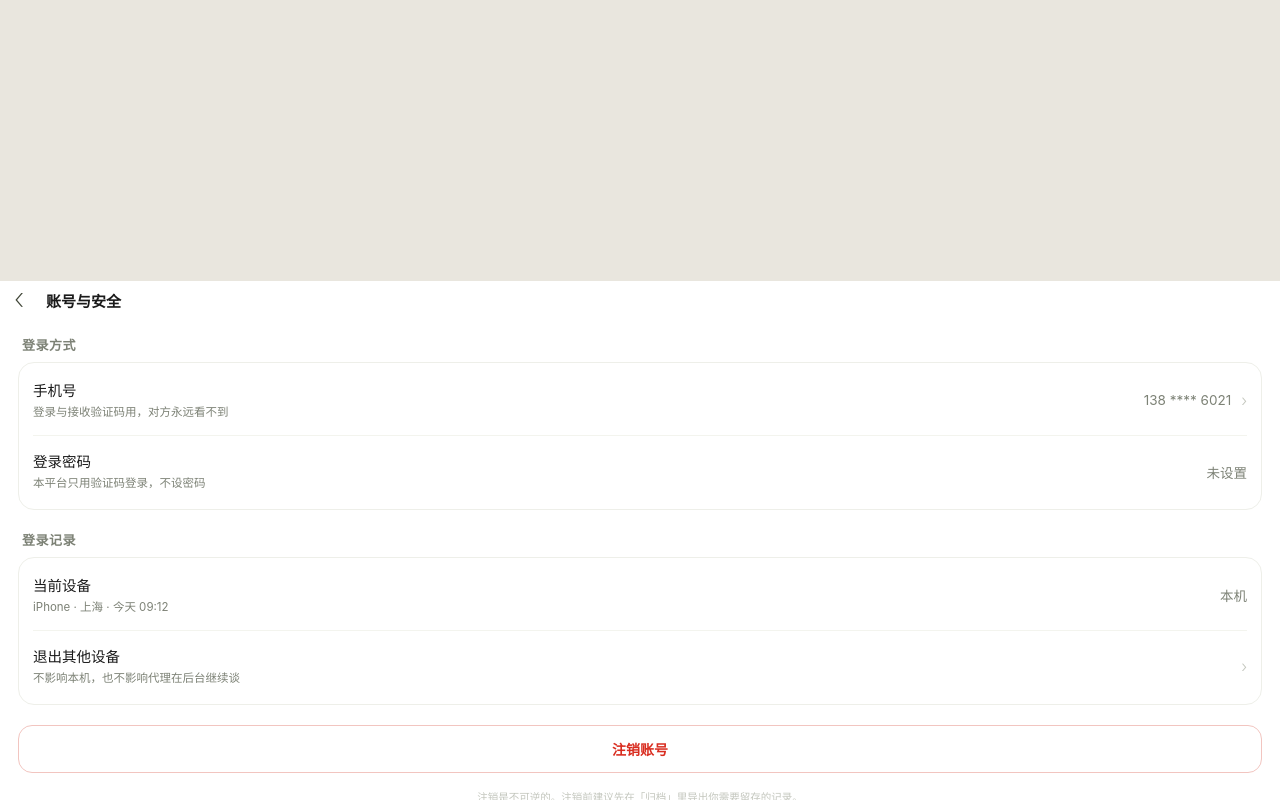
Test: 账号安全 · Mock 冻结 › 验证码抽屉的 maxLength / 占位 / 启用继续由 短信验证码位数 派生（无六位字面量）
(page scrolled)
Click the button "手机号 登录与接收验证码用，对方永远看不到 138 **** 6021 ›".
click(55, 390)  # box [33,365,1247,436]
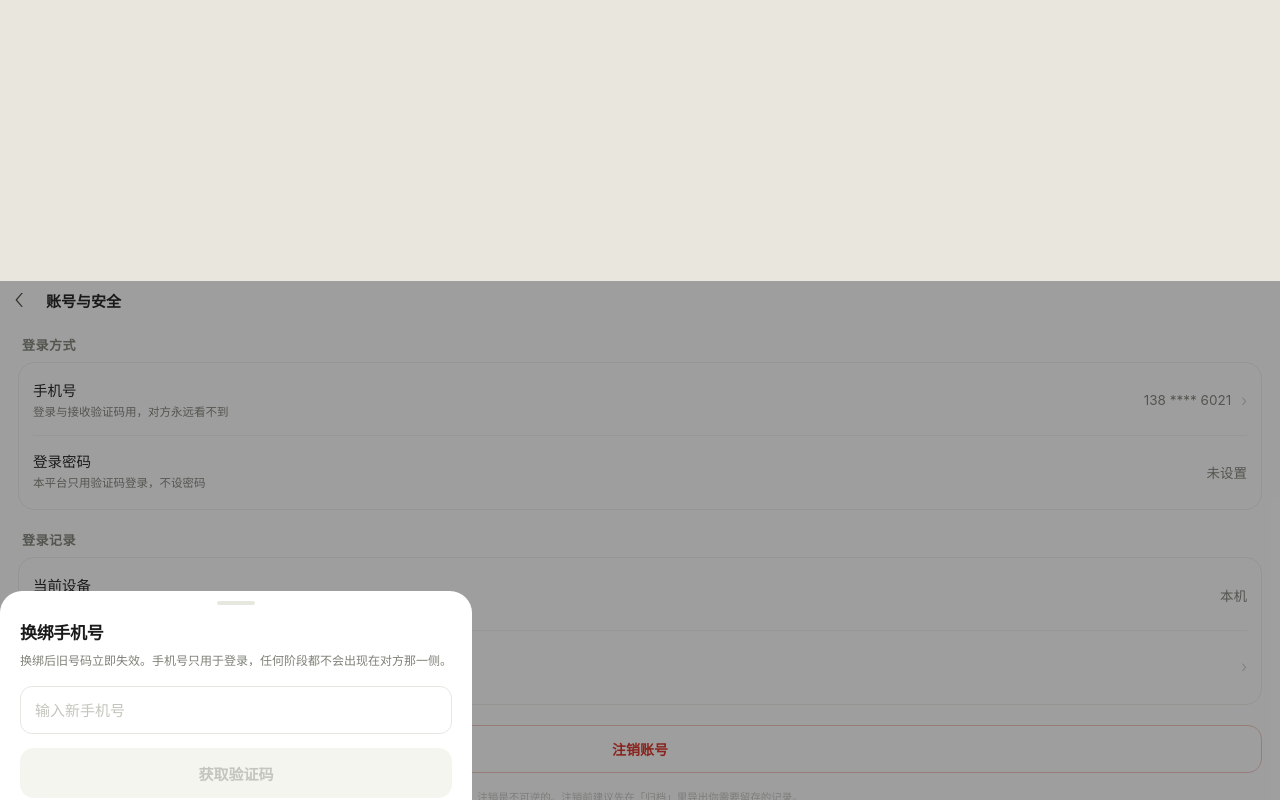
Type "13900000000" into the field with placeholder "输入新手机号".
click(236, 710); type("13900000000")  # box [20,686,452,734]
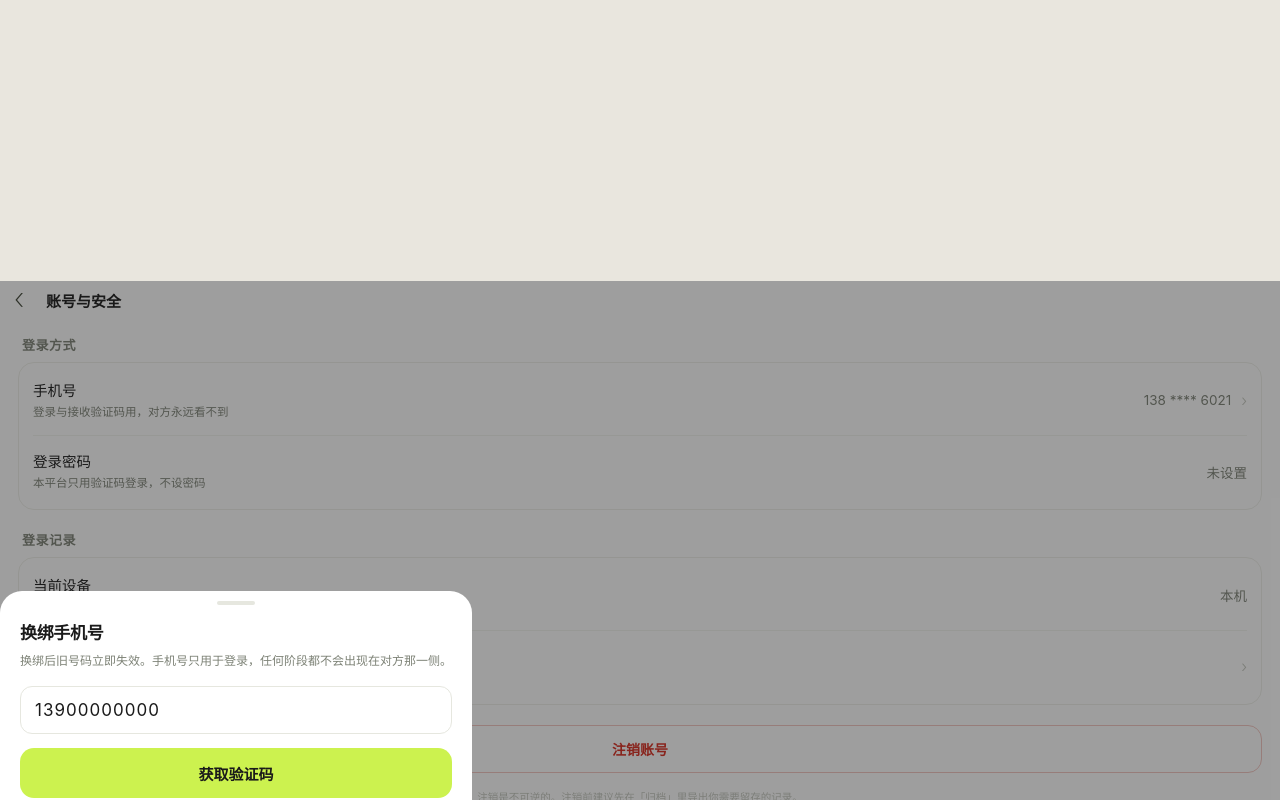
Click the button "获取验证码".
click(236, 773)  # box [20,748,452,798]
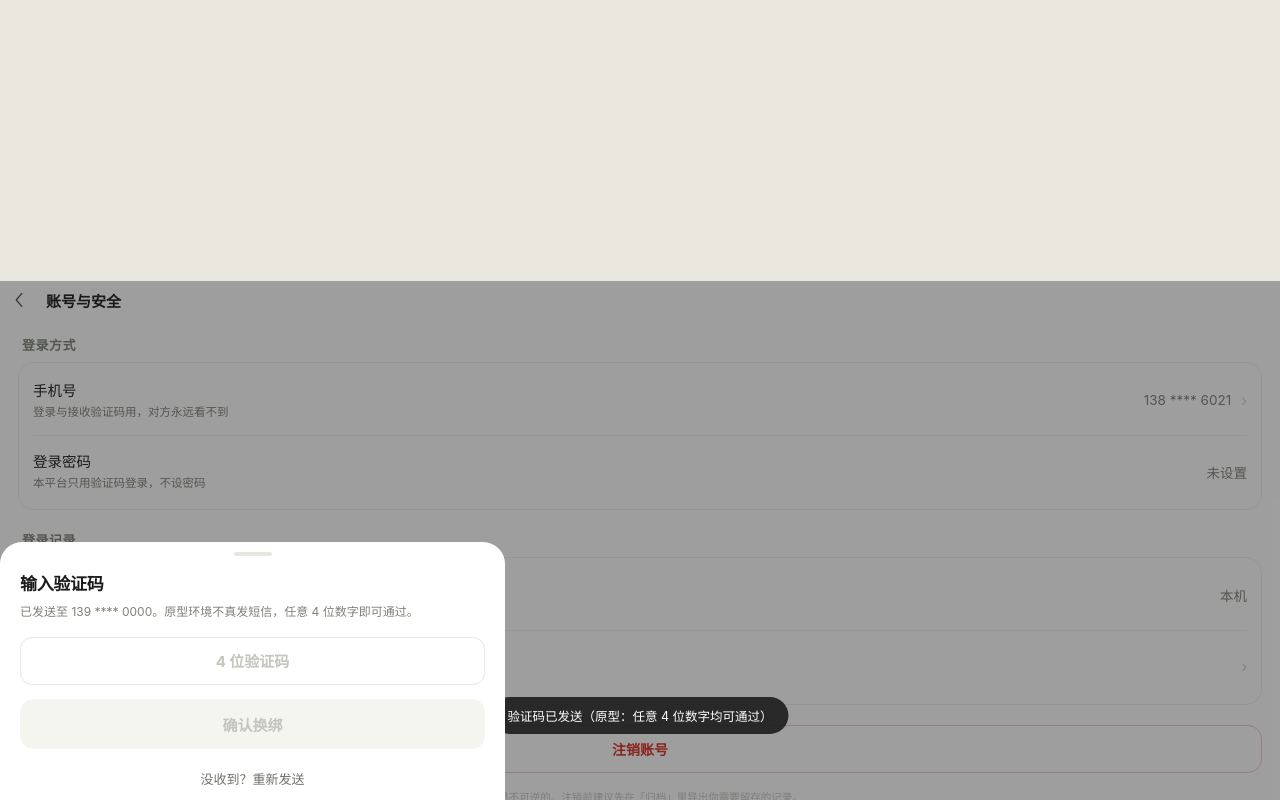
Expected: the button "确认换绑" is disabled, [20,699,485,749]
Type "111" into the field with placeholder "4 位验证码".
click(252, 661); type("111")  # box [20,637,485,685]
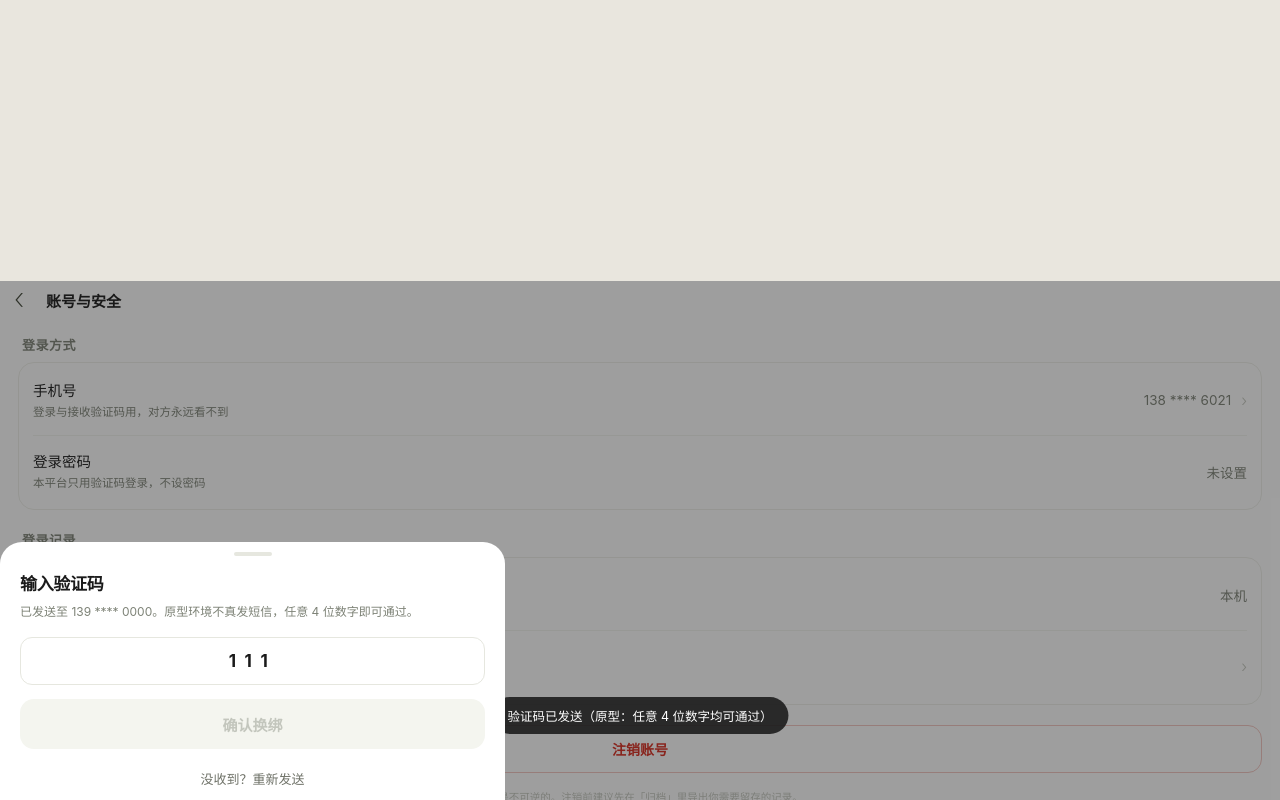
Expected: the button "确认换绑" is disabled, [20,699,485,749]
Type "1" into the field with placeholder "4 位验证码".
click(252, 661); type("1")  # box [20,637,485,685]
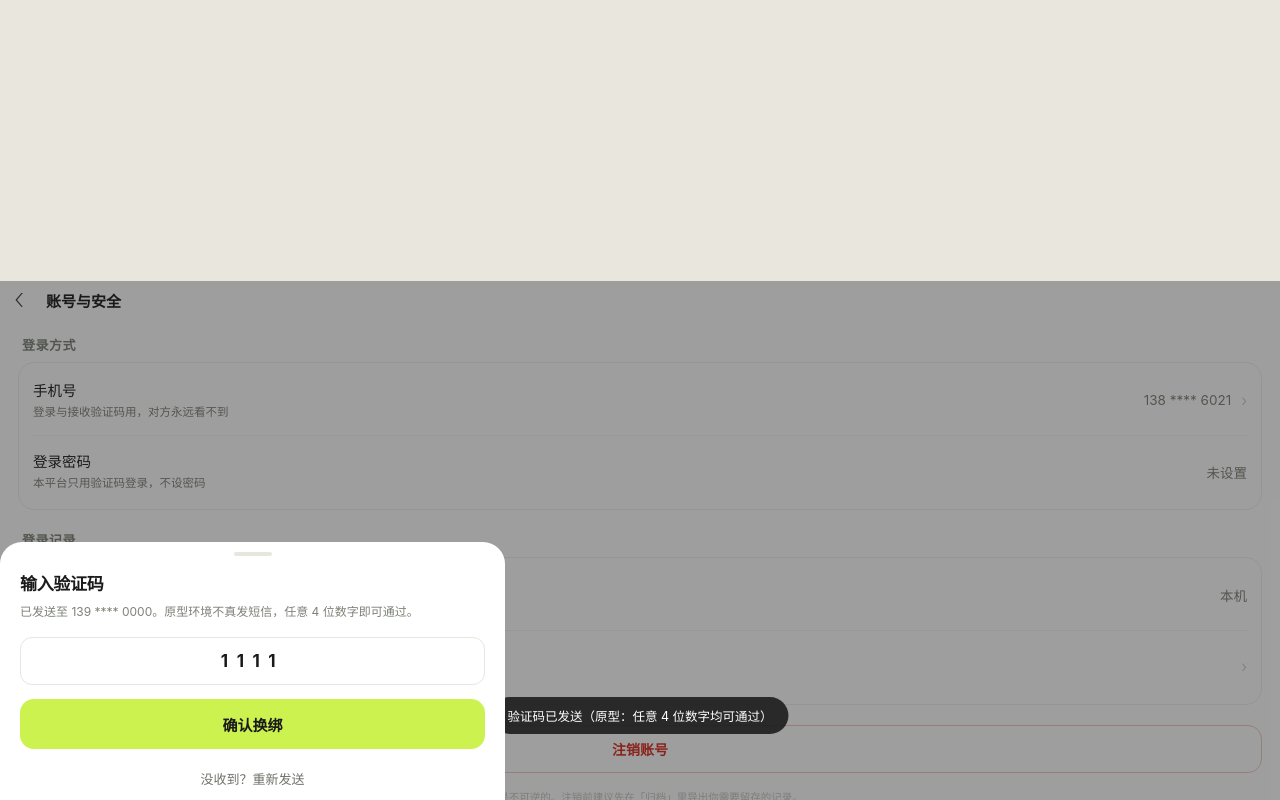
Expected: the button "确认换绑" is enabled, [20,699,485,749]
